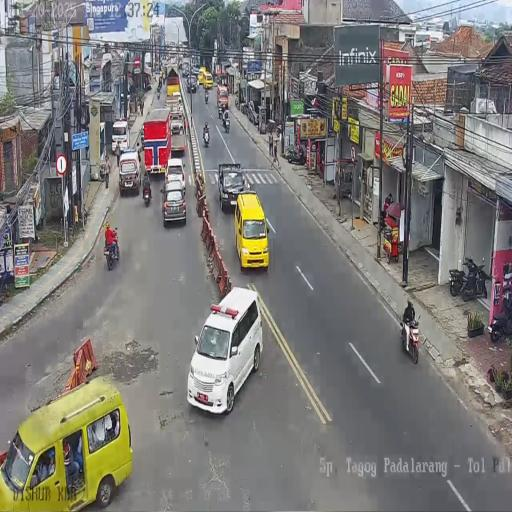car: (1, 374, 133, 510), (186, 287, 263, 414), (234, 192, 270, 271), (217, 161, 246, 213), (161, 178, 186, 226), (118, 148, 141, 196), (111, 118, 130, 156), (217, 84, 229, 110), (247, 100, 259, 125), (120, 88, 130, 112), (186, 77, 197, 93), (198, 67, 206, 84), (178, 99, 184, 115), (182, 64, 189, 76), (192, 65, 199, 77)
motorcycle: (398, 304, 420, 365), (462, 256, 489, 302), (489, 290, 512, 341), (104, 230, 119, 270), (284, 142, 306, 166), (142, 176, 152, 206), (240, 99, 249, 117), (202, 128, 210, 146), (223, 114, 230, 134), (218, 102, 223, 120), (276, 124, 282, 138), (137, 143, 141, 163), (204, 89, 209, 103), (156, 87, 161, 99), (158, 76, 162, 90), (235, 95, 239, 109), (162, 71, 166, 84)
truck: (142, 110, 172, 177), (166, 68, 180, 98), (169, 54, 178, 69)
